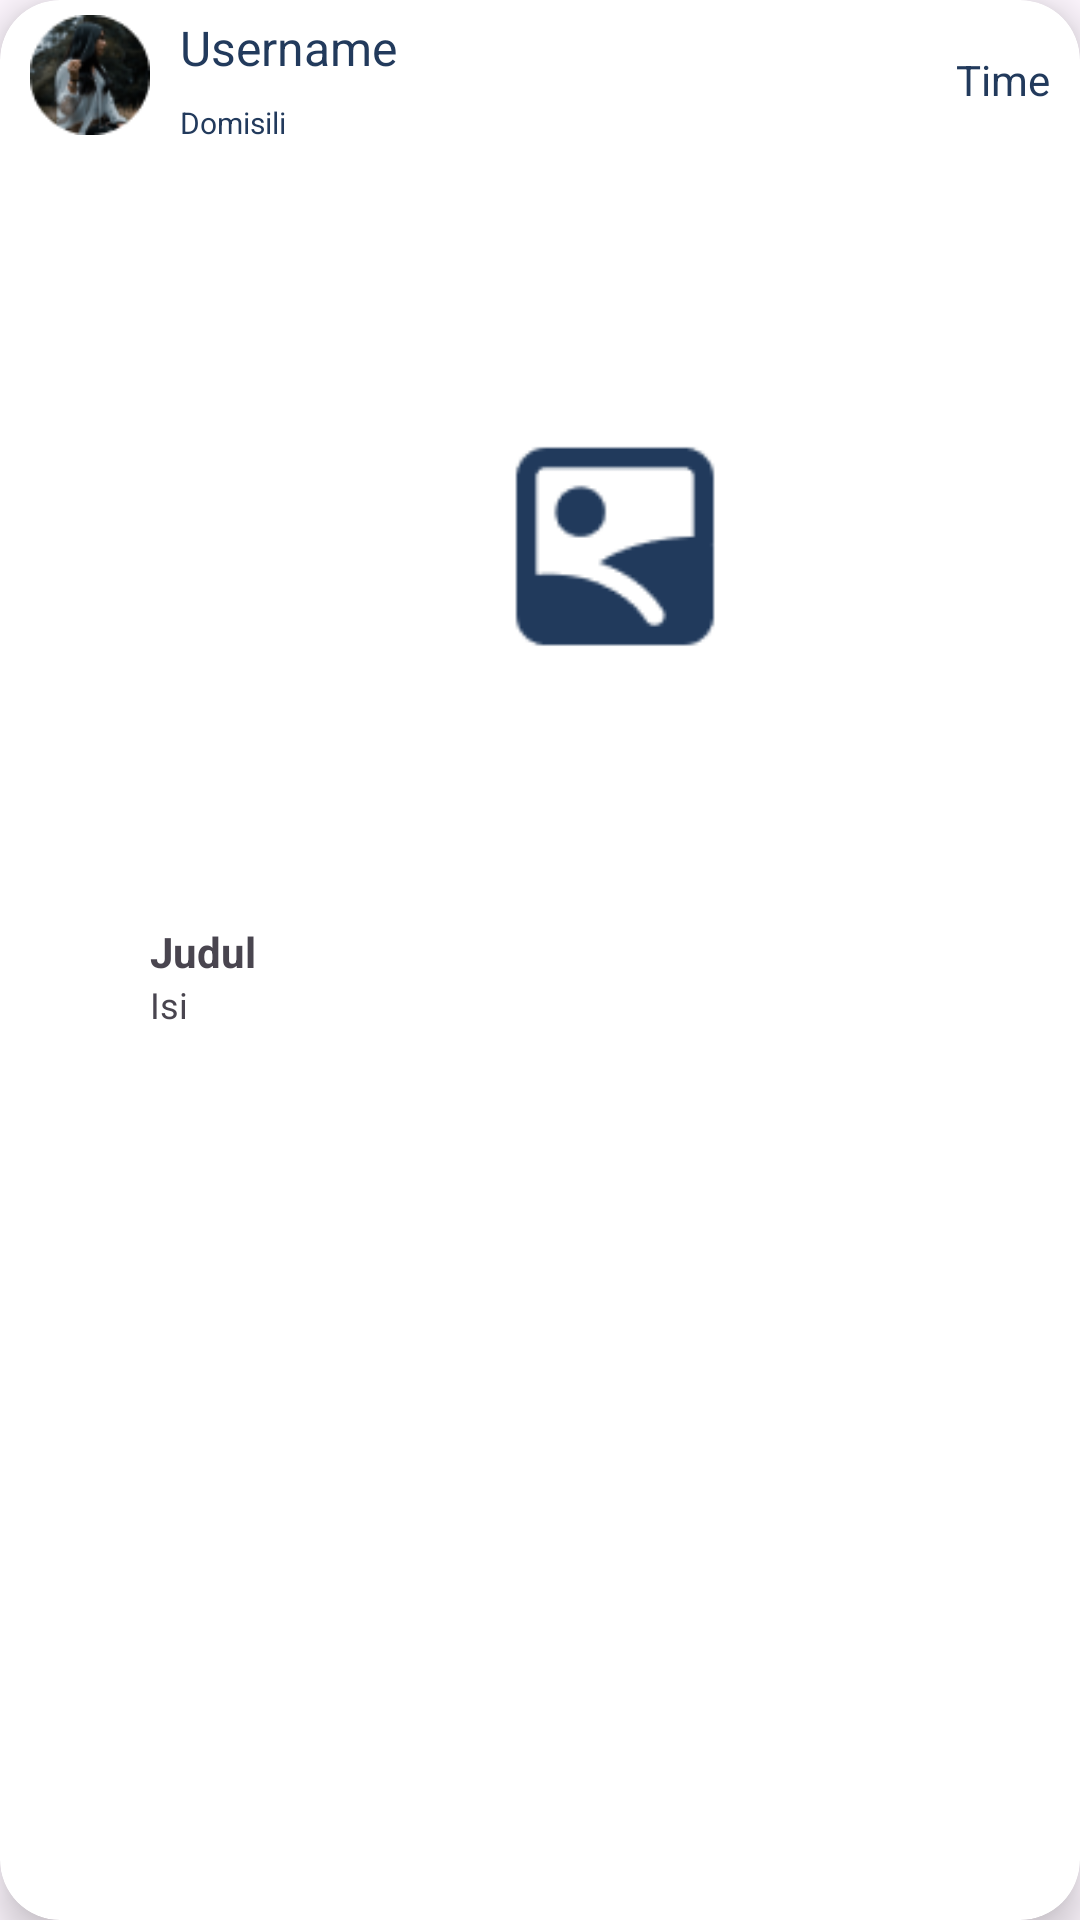

Point at icon controls on the screen. Image size 1080w x 1920h, points as (x=x, y=y).
profil: (x=90, y=75)
